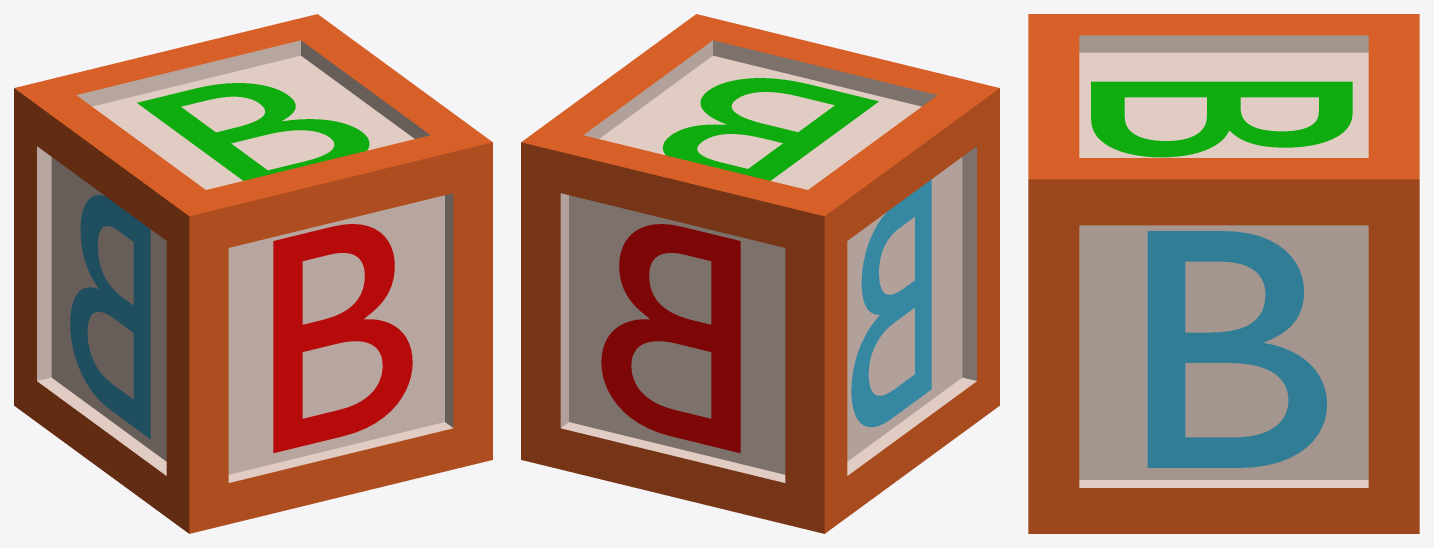
File: Prop_KidsCube_B.fbx
3 renders of one model, left to right at view 1: azimuth 30°, elevation 25°; view 2: azimuth 150°, elevation 25°; view 3: azimuth 270°, elevation 25°, orthographic. The views are drawn at different scales.
Parts seen in each view (by area): view 1: Prop_KidsCube_B; view 2: Prop_KidsCube_B; view 3: Prop_KidsCube_B.
Boxes of the visible parts, x1,y1,x2,y2 form: Prop_KidsCube_B: (14,14,492,533); Prop_KidsCube_B: (521,14,999,533); Prop_KidsCube_B: (1028,14,1419,533).
Bounding box in the file's own units: 20.93 × 20.93 × 20.93.
